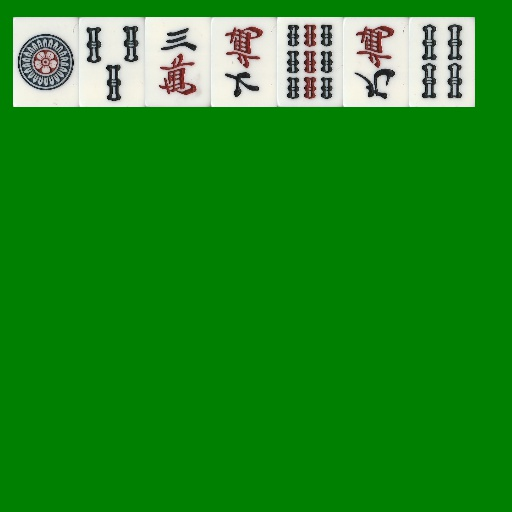1p: (13, 17, 79, 107)
3m: (145, 17, 211, 107)
3s: (79, 17, 145, 107)
4s: (409, 17, 475, 107)
7m: (211, 17, 277, 107)
9m: (343, 17, 409, 107)
9s: (277, 17, 343, 107)
